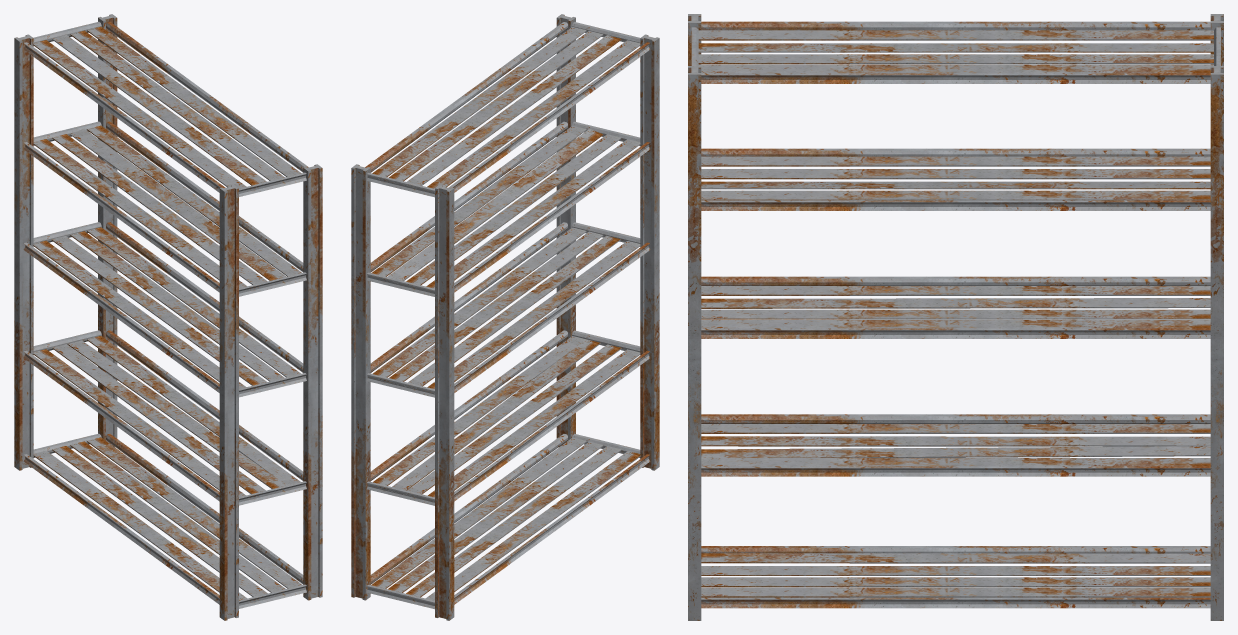
The model's file is Mueble garage.fbx.
3 views of the same model, side by side, from view 1: azimuth 30°, elevation 25°; view 2: azimuth 150°, elevation 25°; view 3: azimuth 270°, elevation 25° (orthographic). The views are drawn at different scales.
Parts seen in each view (by area): view 1: pCube279; view 2: pCube279; view 3: pCube279.
Boxes of the visible parts, <box> form: pCube279: <box>14,14,322,620</box>; pCube279: <box>351,14,659,620</box>; pCube279: <box>688,14,1223,620</box>.
Bounding box in the file's own units: 64.62 × 271 × 241.
